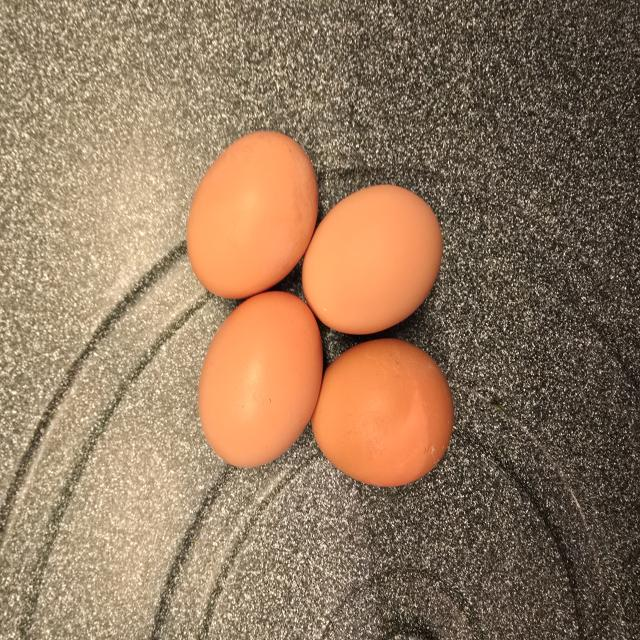Egg: (187, 131, 318, 299), (199, 291, 323, 467), (311, 339, 454, 487), (302, 185, 442, 334)
